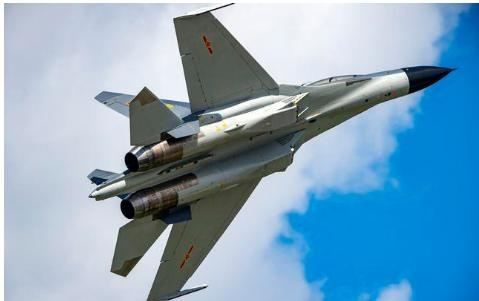airplane: (82, 2, 453, 297)
